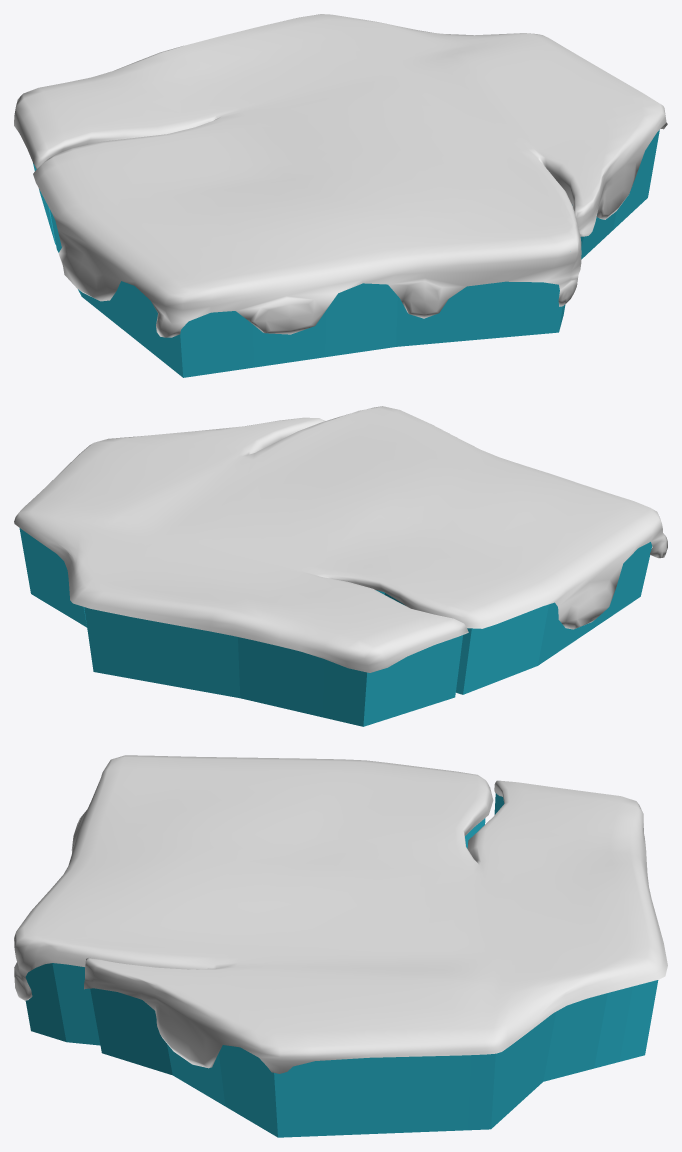
Rendered from S_IceBerg_00.fbx.
3 views of the same model, one above another, from view 1: azimuth 30°, elevation 25°; view 2: azimuth 150°, elevation 25°; view 3: azimuth 270°, elevation 25° (orthographic). The views are drawn at different scales.
Parts seen in each view (by area): view 1: Snow, Ice; view 2: Snow, Ice; view 3: Snow, Ice.
Part boxes in pixels (left/top/right/bottom): Snow: left=14, top=14, right=667, bottom=337; Ice: left=33, top=130, right=659, bottom=377; Snow: left=14, top=406, right=667, bottom=672; Ice: left=19, top=528, right=652, bottom=726; Snow: left=14, top=755, right=667, bottom=1073; Ice: left=25, top=793, right=658, bottom=1137.
Size of the model in its own units: 1867 by 315 by 1712.
